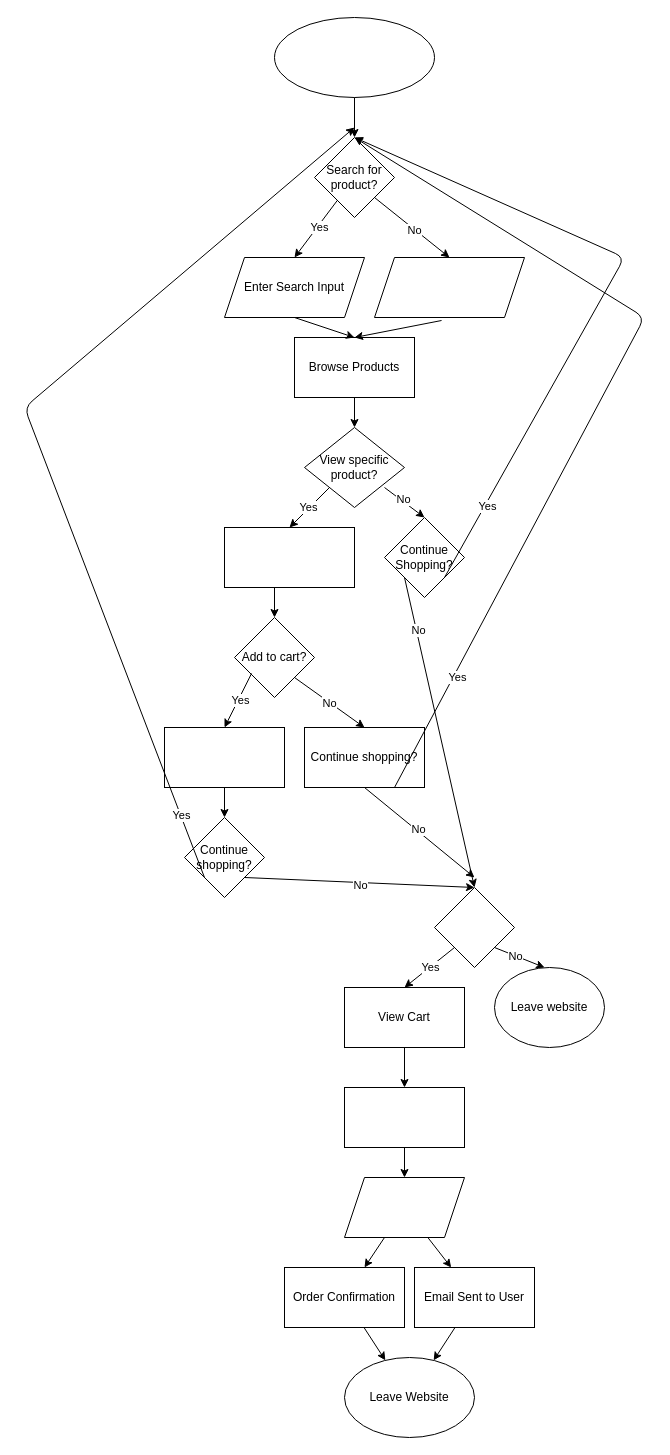
Image size: 670x1455. Some labels were removed from this diagram. The shapes that lost their labels are listed below. From the top down, each one's centre as x and y in pixels, then its label:
At [354,57]: "Enter website".
At [449,287]: "Browse Home Page".
At [289,557]: "Product Page Opens".
At [224,757]: "Added to Cart Confirmation".
At [474,927]: "Checkout?".
At [404,1117]: "View Payment".
At [404,1207]: "Enter Payment Information".
